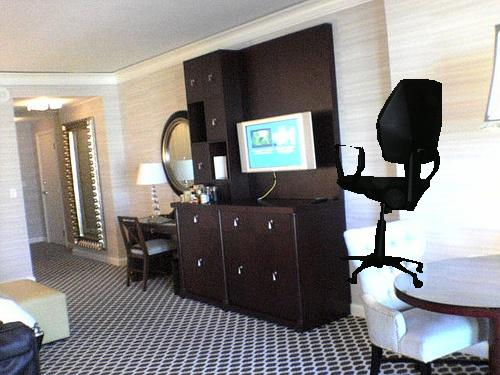tampered: (335, 80, 442, 288)
